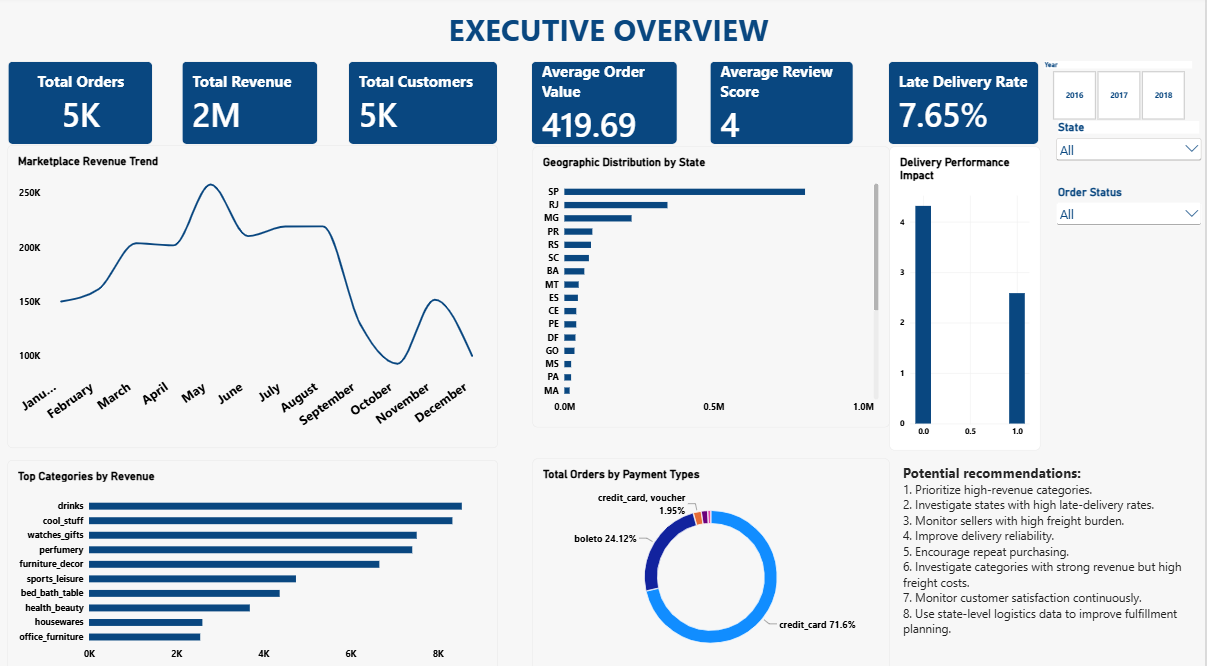

The page's visual inventory and layout, read from the dashboard file:
{"tool":"powerbi","page":{"name":"EXECUTIVE OVERVIEW","canvas":[1920,1080],"ordinal":0},"visuals":[{"type":"cardVisual","fields":{"Data":["vw_order_summary.Total Orders"]},"box":[16.7,105,231.4,133.6],"z":0},{"type":"cardVisual","fields":{"Data":["vw_order_summary.Total Customers"]},"box":[558.3,105,238.6,133.6],"z":1000},{"type":"cardVisual","fields":{"Data":["vw_order_summary.Average Order Value"]},"box":[849.4,105,233.8,133.6],"z":2000},{"type":"cardVisual","fields":{"Data":["vw_order_summary.Average Review Score"]},"box":[1133.3,105,229,133.6],"z":3000},{"type":"cardVisual","fields":{"Data":["vw_order_summary.Total Revenue"]},"box":[293.5,105,217.1,133.6],"z":4000},{"type":"cardVisual","fields":{"Data":["vw_order_summary.Late Delivery Rate"]},"box":[1417.2,105,241,133.6],"z":5000},{"type":"lineChart","title":"Marketplace Revenue Trend","fields":{"Category":["vw_order_summary.order_purchase_timestamp.Variation.Date Hierarchy.Month"],"Y":["vw_order_summary.Total Revenue"]},"box":[16.7,238.6,780.2,482],"z":6000},{"type":"clusteredBarChart","title":"Geographic Distribution by State","fields":{"Category":["vw_order_summary.customer_state"],"Y":["vw_order_summary.Total Revenue"]},"box":[850.6,240,568.1,446.6],"z":7000},{"type":"clusteredBarChart","title":"Top Categories by Revenue","fields":{"Category":["vw_order_items_enriched.product_category_english"],"Y":["vw_order_summary.Total Revenue"]},"box":[16.7,739.6,780.2,341.2],"z":8000},{"type":"donutChart","title":"Total Orders by Payment Types","fields":{"Category":["vw_payment_summary.payment_types"],"Y":["vw_order_summary.Total Orders"]},"box":[850.6,738.2,568.1,343.3],"z":9000},{"type":"textbox","box":[718.2,21.5,536.8,66.8],"z":10000},{"type":"slicer","fields":{"Values":["vw_order_summary.order_purchase_timestamp.Variation.Date Hierarchy.Year"]},"box":[1658.2,105,250.5,95.4],"z":11000},{"type":"slicer","fields":{"Values":["vw_order_summary.customer_state"]},"box":[1680,200.5,241,102.6],"z":12000},{"type":"slicer","fields":{"Values":["vw_order_summary.order_status"]},"box":[1680,303.8,241,83.5],"z":13000},{"type":"clusteredColumnChart","title":"Delivery Performance Impact","fields":{"Category":["vw_order_summary.late_delivery_flag"],"Y":["vw_order_summary.Average Review Score"]},"box":[1418.7,240,240,483],"z":13001},{"type":"textbox","box":[1440,744.3,467.8,334.2],"z":13002}]}

Visuals, with their boxes in screenshot pixels (x1, y1, x2, y2), scaled from the page's 1920x1080 canvas onto the 1207x666 screenshot:
cardVisual - vw_order_summary.Total Orders: bbox(10, 65, 156, 147)
cardVisual - vw_order_summary.Total Customers: bbox(351, 65, 501, 147)
cardVisual - vw_order_summary.Average Order Value: bbox(534, 65, 681, 147)
cardVisual - vw_order_summary.Average Review Score: bbox(712, 65, 856, 147)
cardVisual - vw_order_summary.Total Revenue: bbox(185, 65, 321, 147)
cardVisual - vw_order_summary.Late Delivery Rate: bbox(891, 65, 1042, 147)
"Marketplace Revenue Trend" lineChart: bbox(10, 147, 501, 444)
"Geographic Distribution by State" clusteredBarChart: bbox(535, 148, 892, 423)
"Top Categories by Revenue" clusteredBarChart: bbox(10, 456, 501, 665)
"Total Orders by Payment Types" donutChart: bbox(535, 455, 892, 665)
textbox: bbox(451, 13, 789, 54)
slicer - vw_order_summary.order_purchase_timestamp.Variation.Date Hierarchy.Year: bbox(1042, 65, 1200, 124)
slicer - vw_order_summary.customer_state: bbox(1056, 124, 1206, 187)
slicer - vw_order_summary.order_status: bbox(1056, 187, 1206, 239)
"Delivery Performance Impact" clusteredColumnChart: bbox(892, 148, 1043, 446)
textbox: bbox(905, 459, 1199, 665)
